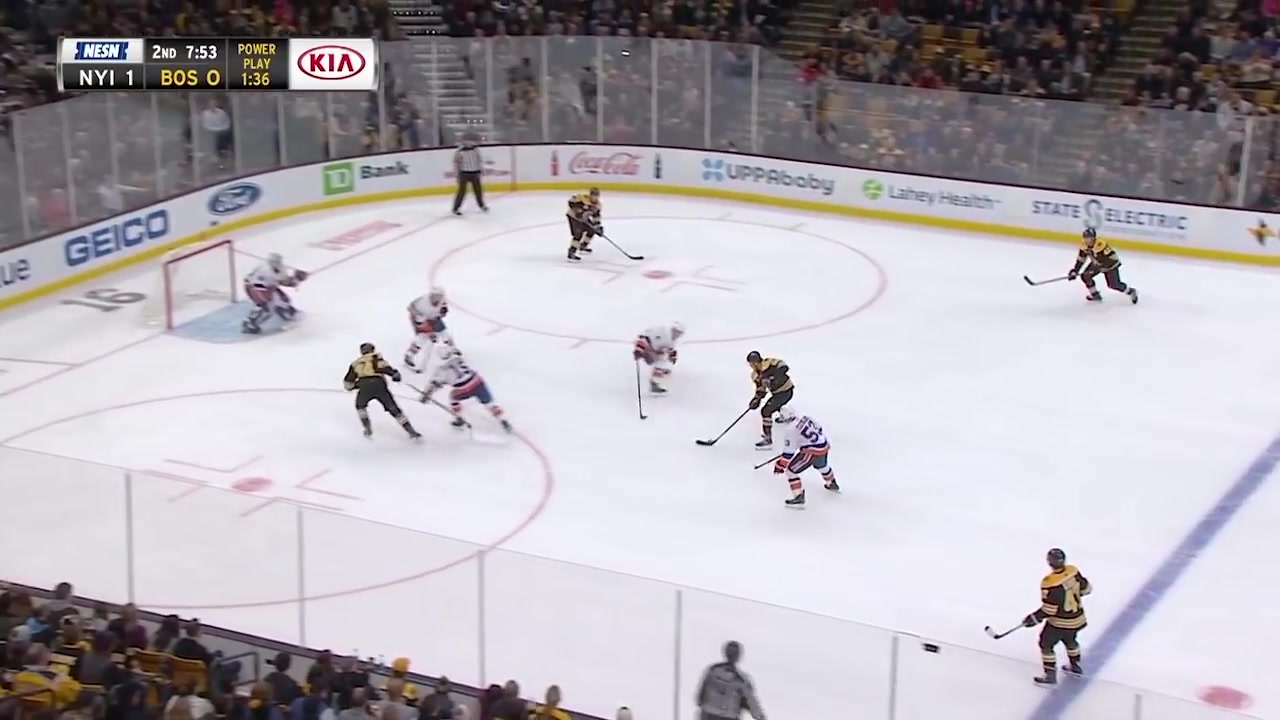Geico: (61, 200, 174, 269)
